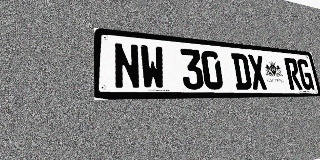0: (200, 50, 224, 90)
3: (180, 48, 204, 89)
D: (231, 53, 252, 90)
G: (296, 59, 315, 90)
N: (113, 42, 141, 89)
R: (284, 57, 303, 90)
W: (139, 44, 166, 89)
X: (247, 54, 268, 90)
